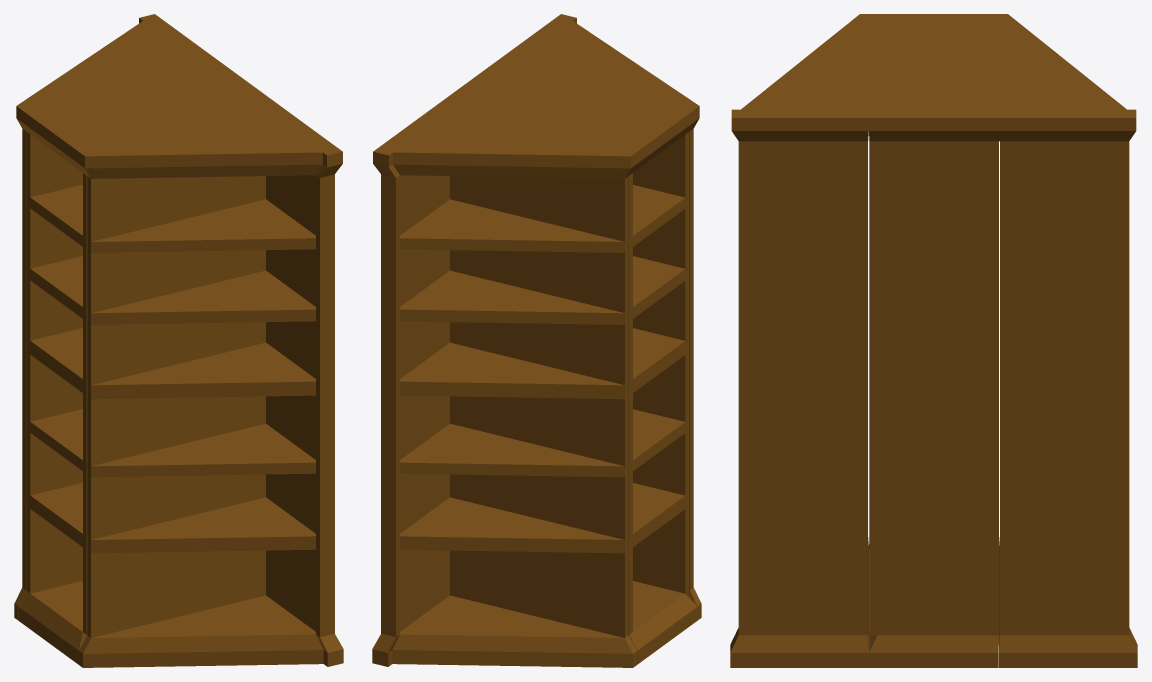
Rendered from Bookcase01.fbx.
3 renders of one model, left to right at view 1: azimuth 30°, elevation 25°; view 2: azimuth 150°, elevation 25°; view 3: azimuth 270°, elevation 25°, orthographic. The views are drawn at different scales.
Parts seen in each view (by area): view 1: Cube.196; view 2: Cube.196; view 3: Cube.196.
Boxes of the visible parts, box(x1,y1,x2,y2) form: Cube.196: box(14, 14, 343, 667); Cube.196: box(372, 14, 701, 667); Cube.196: box(730, 14, 1137, 667).
Bounding box in the file's own units: 71.61 × 175 × 117.
